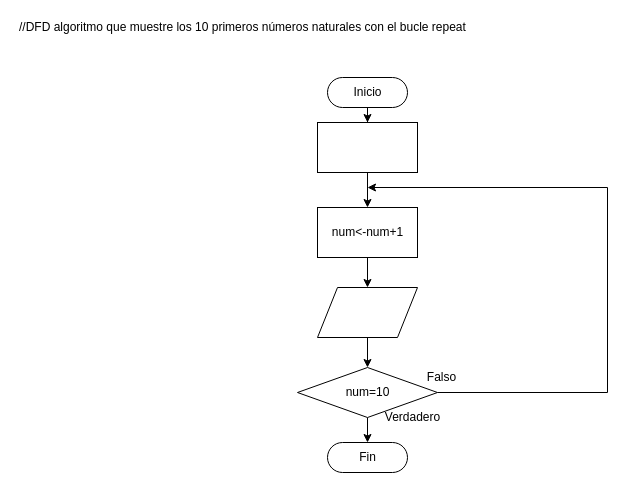
Image size: 633x490. Some labels were removed from this diagram. Each missing label, with the centre of its shape:
"Imprimir num" belongs at point (367, 312).
"num<-0" belongs at point (367, 147).
